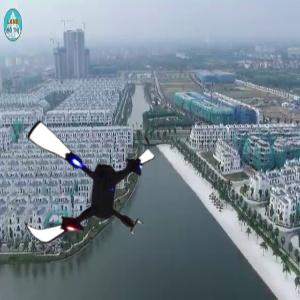drone: (6, 104, 163, 261)
